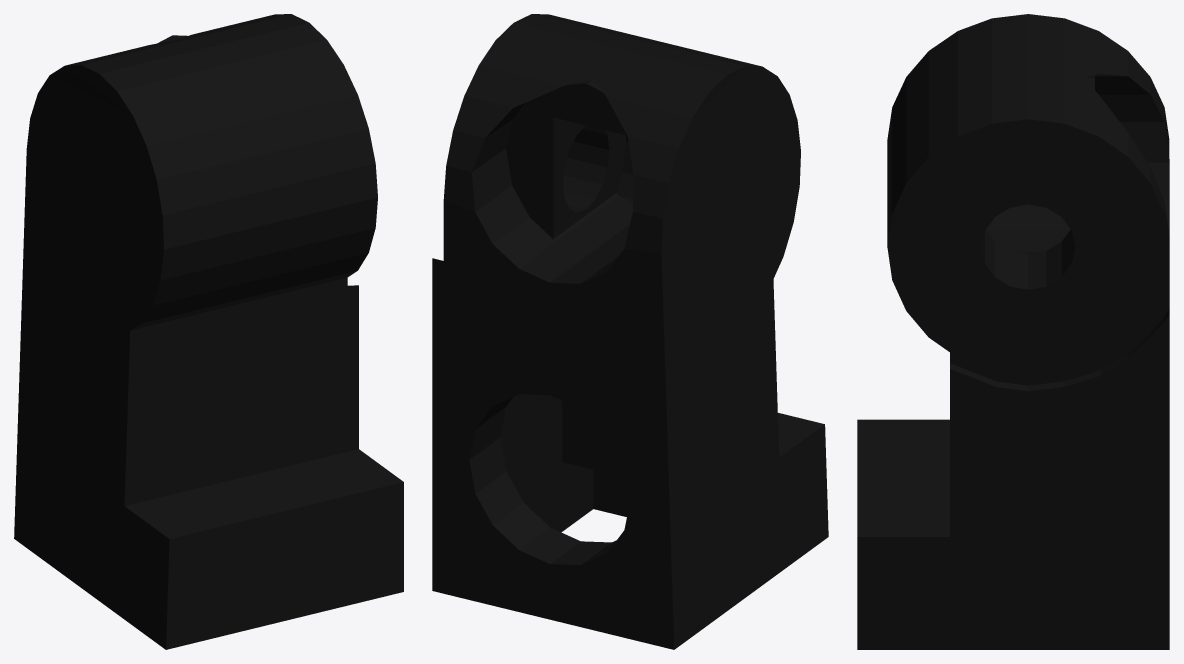
The model's file is BatmanPieD.obj.
3 renders of one model, left to right at view 1: azimuth 30°, elevation 25°; view 2: azimuth 150°, elevation 25°; view 3: azimuth 270°, elevation 25°, orthographic. The views are drawn at different scales.
Visible parts, largest first — view 1: Part_6; view 2: Part_6; view 3: Part_6.
Boxes of the visible parts, bbox=[...] form: Part_6: bbox=[14, 14, 403, 649]; Part_6: bbox=[432, 14, 828, 649]; Part_6: bbox=[857, 14, 1169, 649].
Size of the model in its own units: 7.2 by 14.78 by 7.96.
